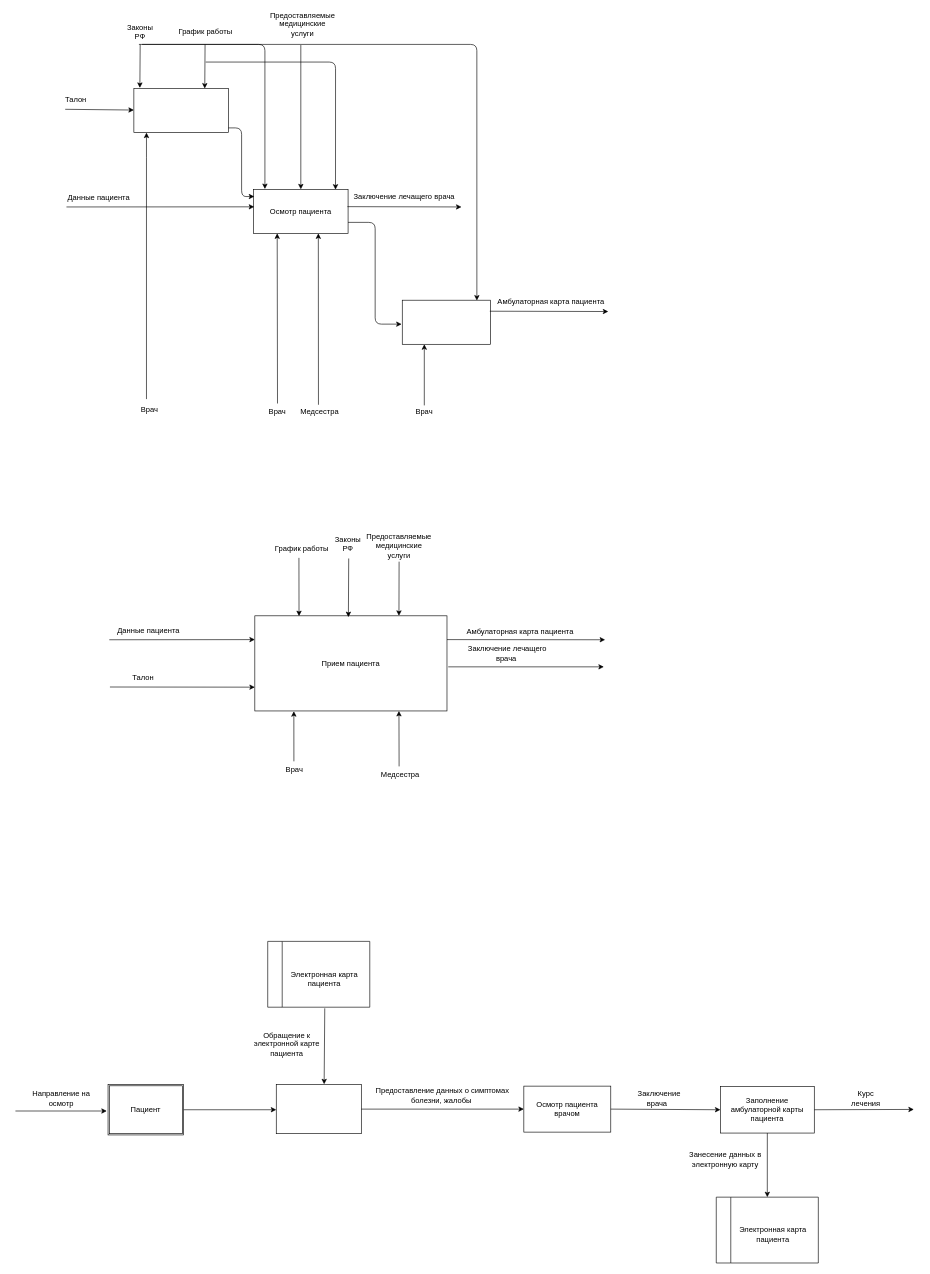
The diagram is 930 pixels wide and 1274 high, and some of its shapes have lost their labels. Here are the shapes that lost their labels. From the top down, the centre of each, then its label:
At (x=180, y=110): "Просмотр истории болезней".
At (x=446, y=322): "Заполнение карты".
At (x=318, y=1109): "Просмотр истории болезней пациента в амбулаторной карте".
